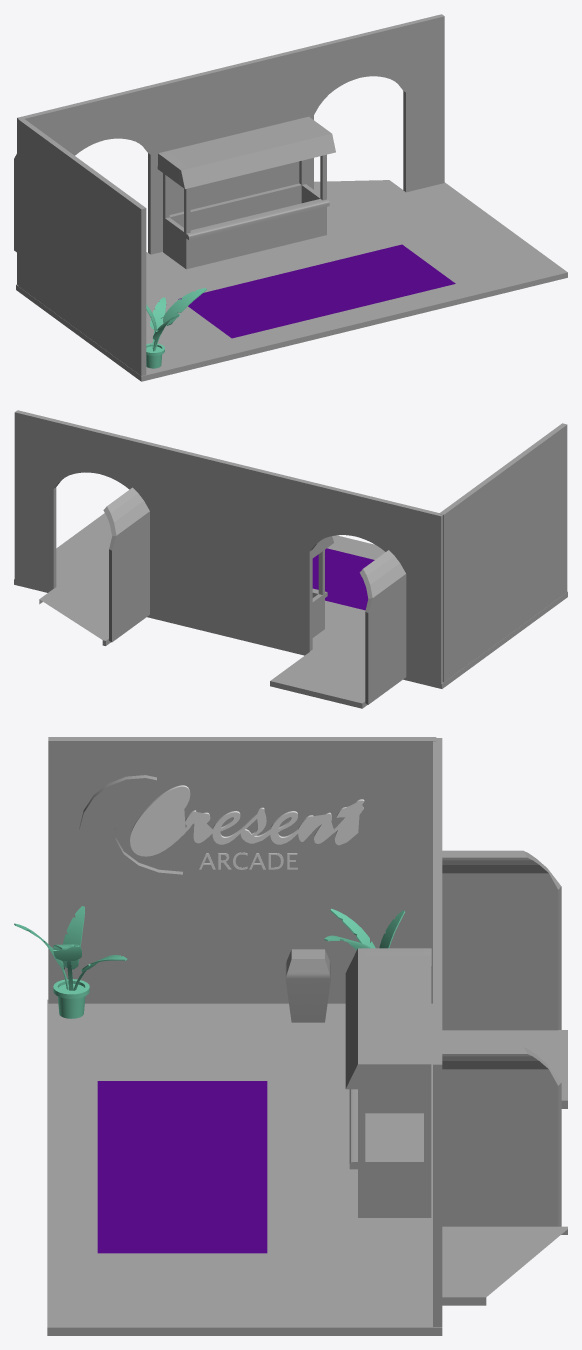
Rendered from Arcade_Entrance.fbx.
3 renders of one model, top to bottom at view 1: azimuth 30°, elevation 25°; view 2: azimuth 150°, elevation 25°; view 3: azimuth 270°, elevation 25°, orthographic. The views are drawn at different scales.
Parts seen in each view (by area): view 1: Wall_Arcade_Entrance, Floor_Arcade_Entrance, TicketBooth, Rug_Arcade, Big_plant1; view 2: Wall_Arcade_Entrance, Floor_Arcade_Entrance, Rug_Arcade, TicketBooth; view 3: Wall_Arcade_Entrance, Floor_Arcade_Entrance, Rug_Arcade, TicketBooth, Text_Cresent, CresentMoon_Entrance, TrashCan, Big_plant1, Big_plant.
Part boxes in pixels (x1,y1,x2,y2): Wall_Arcade_Entrance: (14,14,444,375); Floor_Arcade_Entrance: (16,180,567,381); TicketBooth: (157,116,335,269); Rug_Arcade: (178,244,455,338); Big_plant1: (146,288,206,368); Wall_Arcade_Entrance: (14,410,567,704); Floor_Arcade_Entrance: (14,513,567,708); Rug_Arcade: (312,548,374,610); TicketBooth: (312,536,333,637); Wall_Arcade_Entrance: (48,737,561,1326); Floor_Arcade_Entrance: (47,999,567,1335); Rug_Arcade: (97,1081,267,1253); TicketBooth: (345,948,431,1217); Text_Cresent: (130,785,364,856); CresentMoon_Entrance: (79,775,182,889); TrashCan: (285,949,330,1022); Big_plant1: (14,906,127,1018); Big_plant: (324,908,404,950).
Bounding box in the file's own units: 1310 × 505 × 936.
